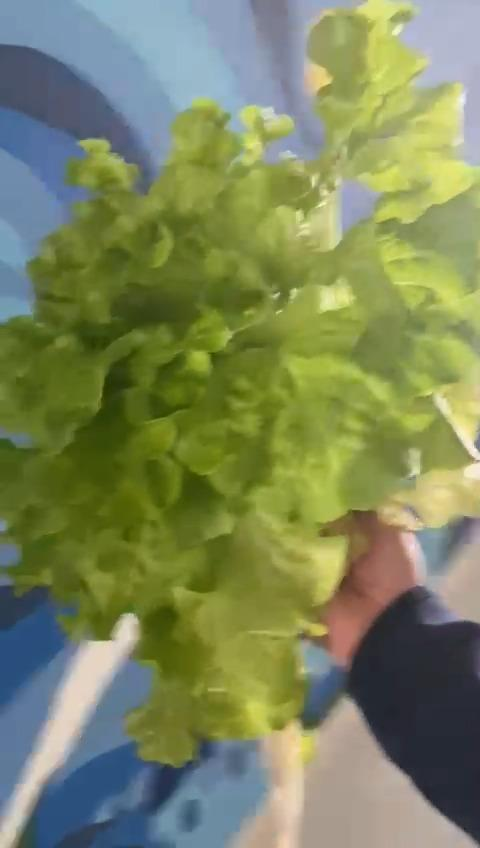Healthy: (0, 0, 480, 764)
